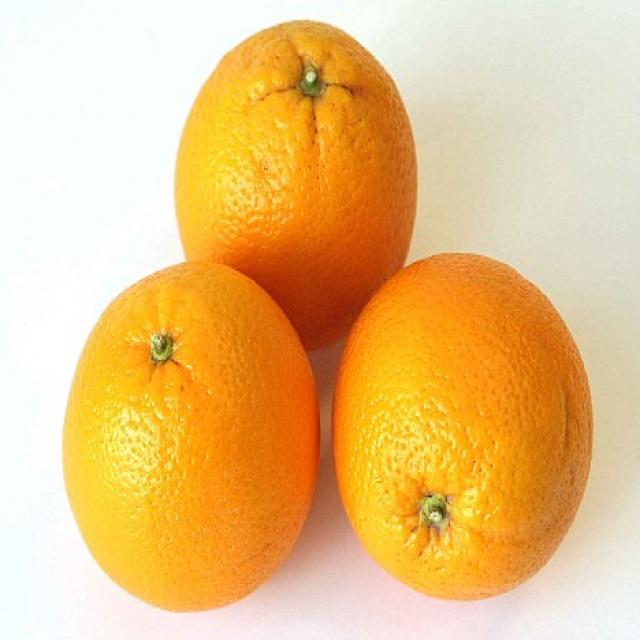Orange: (330, 249, 598, 608), (51, 263, 319, 615), (169, 25, 419, 347)
